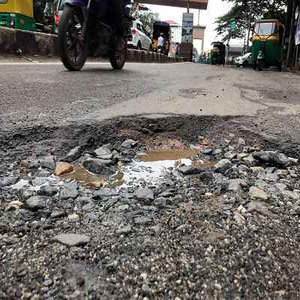pothole: (52, 112, 259, 235)
